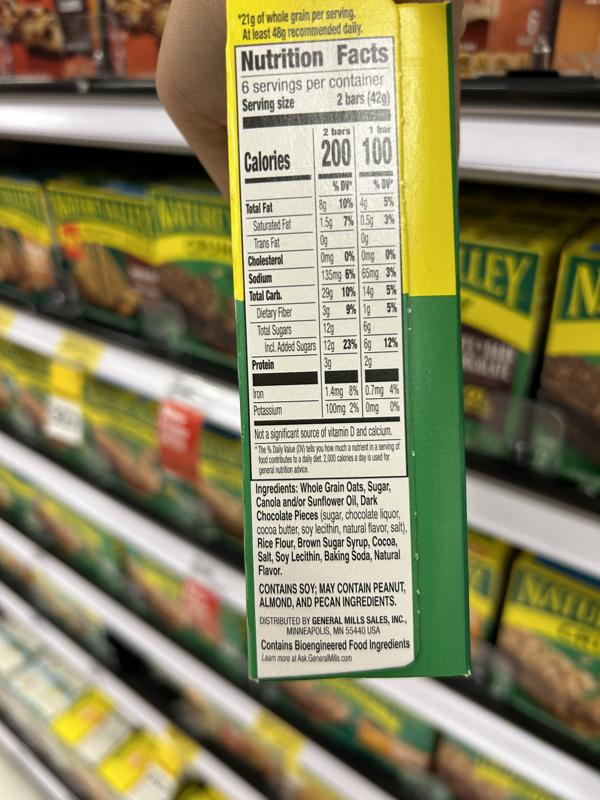ingredients: (252, 478, 409, 577)
